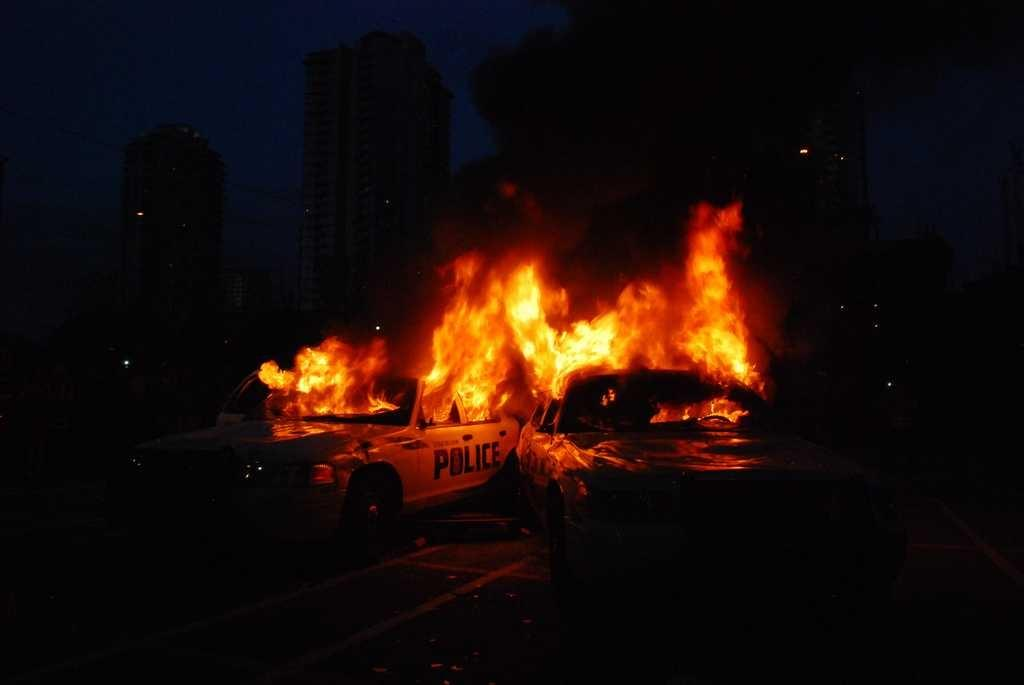fire: (435, 268, 548, 398), (580, 308, 748, 365), (287, 345, 380, 418), (695, 220, 728, 313)
